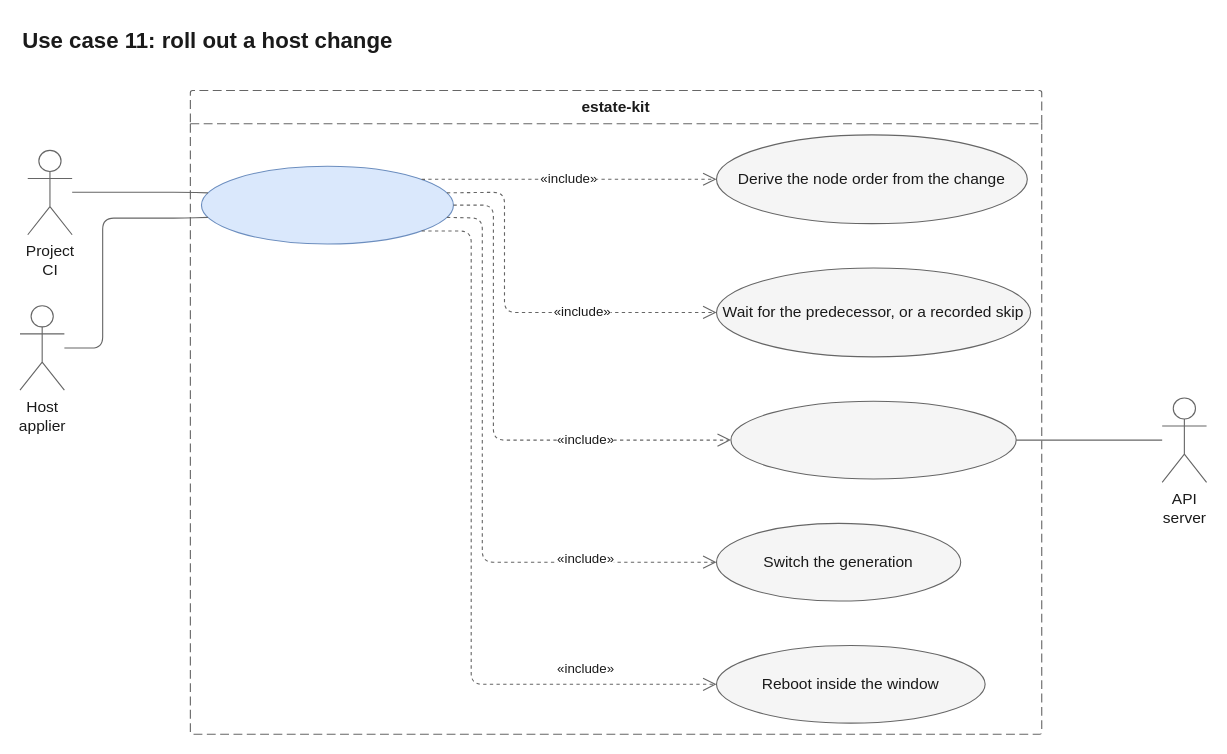
The diagram is 1227 pixels wide and 754 high, and some of its shapes have lost their labels. Here are the shapes that lost their labels. From the top down, the box of each, then its label:
(200, 165, 453, 244): Roll out a host change
(730, 400, 1016, 479): Take the Lease, evict pods
